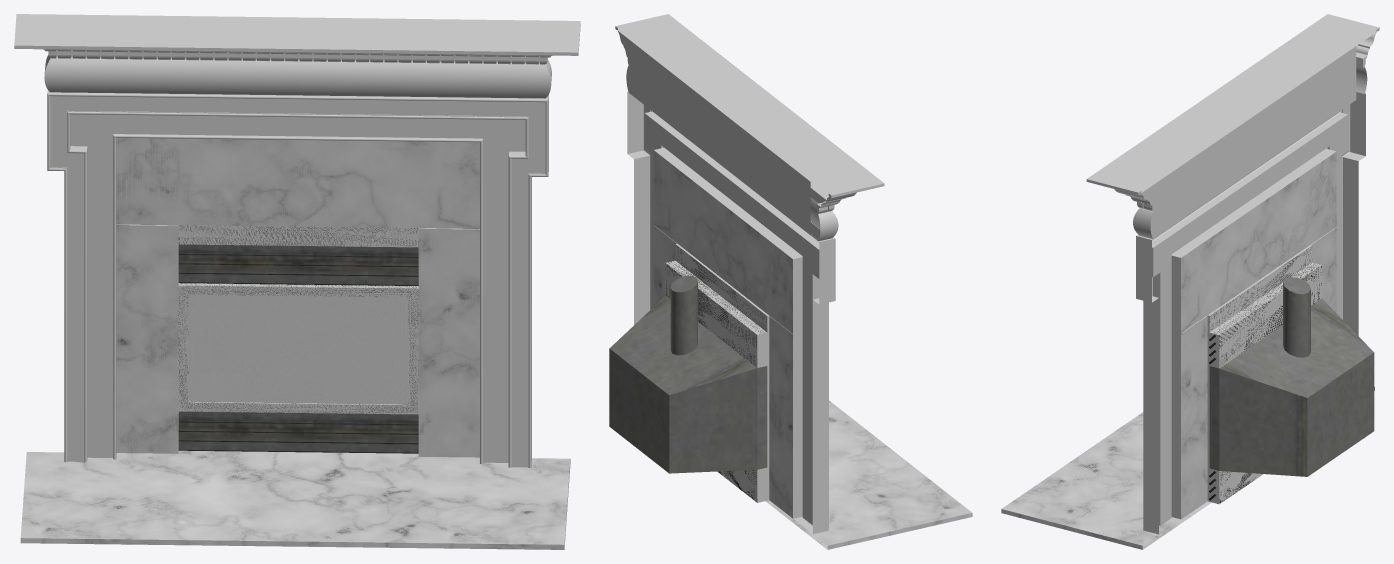
The model's file is fireplace.fbx.
3 renders of one model, left to right at view 1: azimuth 30°, elevation 25°; view 2: azimuth 150°, elevation 25°; view 3: azimuth 270°, elevation 25°, orthographic. The views are drawn at different scales.
Parts seen in each view (by area): view 1: Material2.020, Material2.052, Material2.062, Material3.034, Material2.014, Material2.047, Material2.041, Material3.026, Material3.009, Material2.065, Material2.058, Material3.004 (+11 smaller); view 2: Material2.020, Material2.054, Material3.034, Material2.052, Material2.062, Material3.026, Material3.009, Material2.047, Material2.058, Material2.043, Material2.056, Material3.022 (+5 smaller); view 3: Material2.020, Material2.054, Material3.034, Material2.062, Material2.052, Material3.009, Material3.026, Material2.041, Material2.058, Material2.043, Material2.056, Material3.004 (+6 smaller).
Boxes of the visible parts, box(x1,y1,x2,y2) form: Material2.020: box(14, 14, 580, 467); Material2.052: box(20, 450, 570, 549); Material2.062: box(116, 138, 479, 228); Material3.034: box(15, 14, 580, 467); Material2.014: box(188, 295, 408, 404); Material2.047: box(116, 225, 178, 453); Material2.041: box(418, 228, 479, 457); Material3.026: box(21, 451, 570, 549); Material3.009: box(116, 138, 479, 228); Material2.065: box(178, 283, 418, 414); Material2.058: box(178, 225, 418, 247); Material3.004: box(418, 229, 479, 456); Material2.020: box(615, 14, 884, 534); Material2.054: box(609, 296, 767, 473); Material3.034: box(616, 17, 883, 533); Material2.052: box(765, 400, 972, 549); Material2.062: box(653, 150, 792, 333); Material3.026: box(769, 403, 971, 548); Material3.009: box(653, 150, 792, 331); Material2.047: box(769, 316, 792, 518); Material2.058: box(666, 244, 767, 334); Material2.043: box(665, 263, 757, 367); Material2.056: box(670, 275, 697, 355); Material3.022: box(769, 317, 792, 517); Material2.020: box(1086, 14, 1379, 534); Material2.054: box(1209, 298, 1374, 476); Material3.034: box(1087, 17, 1378, 533); Material2.062: box(1181, 152, 1336, 333); Material2.052: box(1001, 386, 1374, 549); Material3.009: box(1181, 153, 1336, 331); Material3.026: box(1001, 387, 1374, 547); Material2.041: box(1181, 316, 1207, 519); Material2.058: box(1209, 246, 1321, 334); Material2.043: box(1219, 265, 1321, 368); Material2.056: box(1283, 277, 1310, 357); Material3.004: box(1181, 322, 1207, 516).
Size of the model in its own units: 355 by 300 by 285.
Materials: 8 (5 with a texture image).
